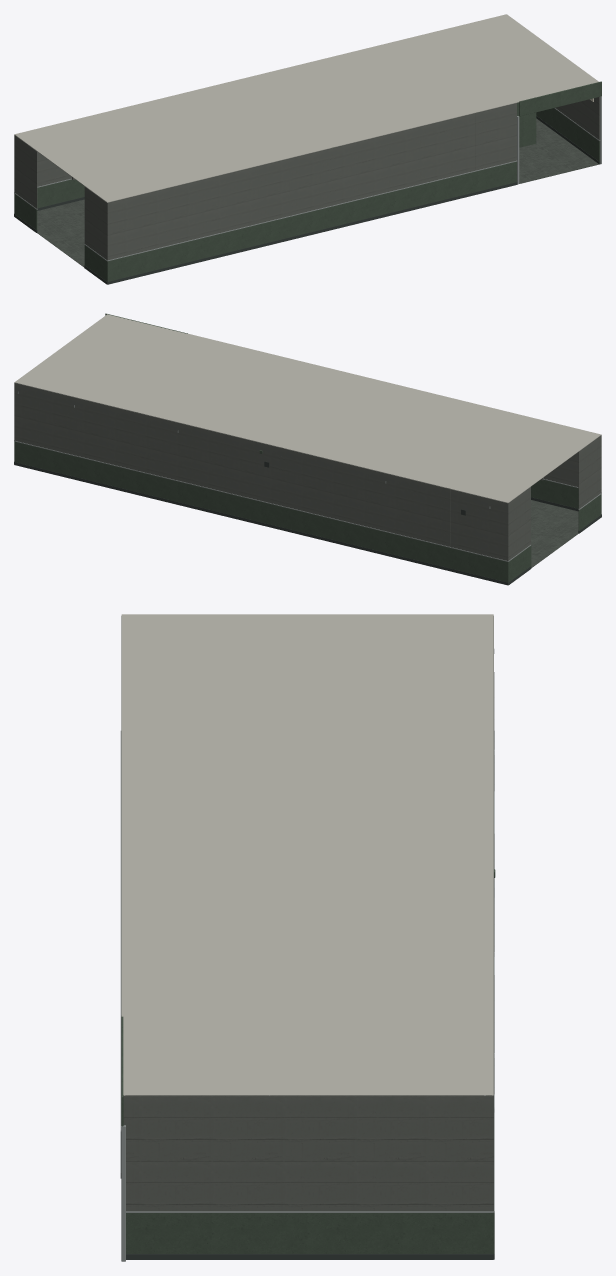
File: isolation_gallery_lining.glb
3 renders of one model, top to bottom at view 1: azimuth 30°, elevation 25°; view 2: azimuth 150°, elevation 25°; view 3: azimuth 270°, elevation 25°, orthographic. The views are drawn at different scales.
Visible parts, largest first — view 1: isolation_gallery_lining / bay_ceiling_ivory, isolation_gallery_lining / transfer_quiet_concrete, isolation_gallery_lining / transfer_green_enamel, isolation_gallery_lining / transfer_floor_coating, isolation_gallery_lining / transfer_dark_steel, isolation_gallery_lining / transfer_galvanized; view 2: isolation_gallery_lining / bay_ceiling_ivory, isolation_gallery_lining / transfer_quiet_concrete, isolation_gallery_lining / transfer_green_enamel, isolation_gallery_lining / transfer_floor_coating, isolation_gallery_lining / transfer_dark_steel, isolation_gallery_lining / transfer_galvanized; view 3: isolation_gallery_lining / bay_ceiling_ivory, isolation_gallery_lining / transfer_quiet_concrete, isolation_gallery_lining / transfer_green_enamel, isolation_gallery_lining / transfer_galvanized, isolation_gallery_lining / transfer_dark_steel.
Part boxes in pixels (x1,y1,x2,y2): isolation_gallery_lining / bay_ceiling_ivory: (14,14,598,202); isolation_gallery_lining / transfer_quiet_concrete: (14,97,599,260); isolation_gallery_lining / transfer_green_enamel: (14,81,601,281); isolation_gallery_lining / transfer_floor_coating: (37,118,599,267); isolation_gallery_lining / transfer_dark_steel: (14,116,600,284); isolation_gallery_lining / transfer_galvanized: (14,96,601,261); isolation_gallery_lining / bay_ceiling_ivory: (14,314,601,502); isolation_gallery_lining / transfer_quiet_concrete: (14,382,601,560); isolation_gallery_lining / transfer_green_enamel: (14,313,601,584); isolation_gallery_lining / transfer_floor_coating: (531,500,578,567); isolation_gallery_lining / transfer_dark_steel: (14,461,601,585); isolation_gallery_lining / transfer_galvanized: (14,391,601,561); isolation_gallery_lining / bay_ceiling_ivory: (121,614,493,1095); isolation_gallery_lining / transfer_quiet_concrete: (121,616,494,1211); isolation_gallery_lining / transfer_green_enamel: (121,869,495,1253); isolation_gallery_lining / transfer_galvanized: (120,649,494,1261); isolation_gallery_lining / transfer_dark_steel: (120,883,494,1259).
Bounding box in the file's own units: 23.91 × 3.8 × 7.83.
Materials: 7 (3 with a texture image).
